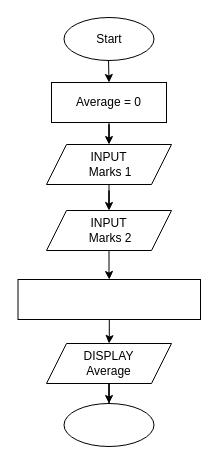
The diagram is 218 pixels wide and 464 high, and some of its shapes have lost their labels. Each missing label, with the centre of its shape:
"Average=(Marks 1+Marks 2)/2" belongs at point 108,299.
"Stop" belongs at point 108,424.
